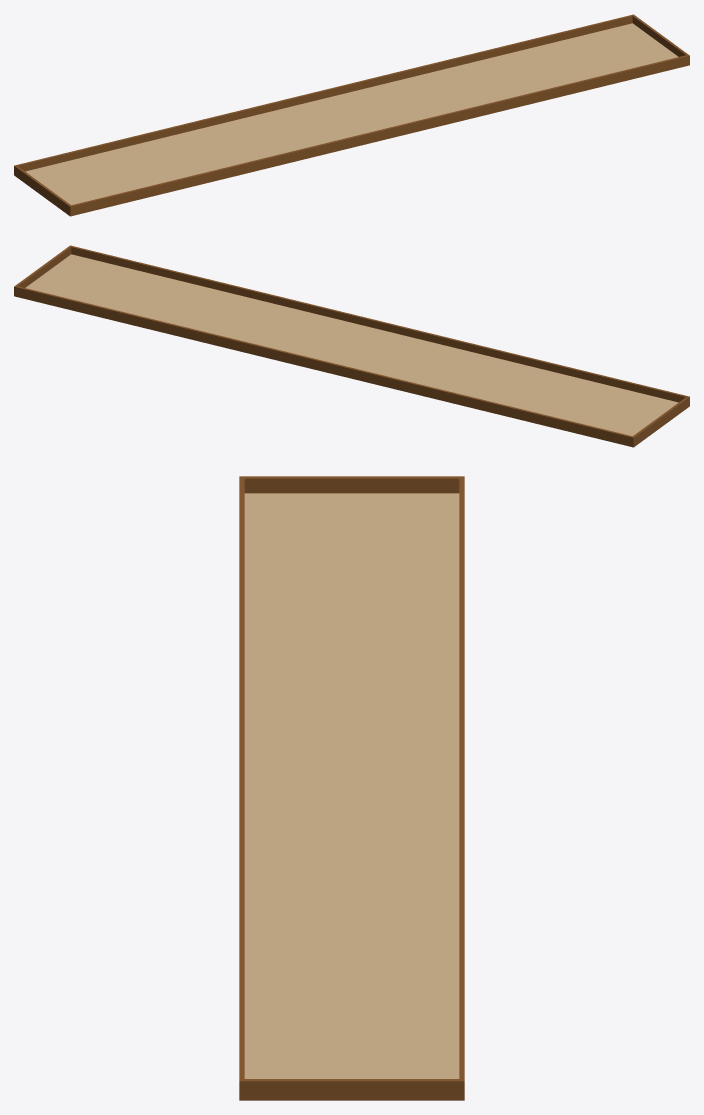
File: campo_de_bocha.glb
3 renders of one model, top to bottom at view 1: azimuth 30°, elevation 25°; view 2: azimuth 150°, elevation 25°; view 3: azimuth 270°, elevation 25°, orthographic. The views are drawn at different scales.
Bounding box in the file's own units: 26.7 × 0.4 × 4.2.
